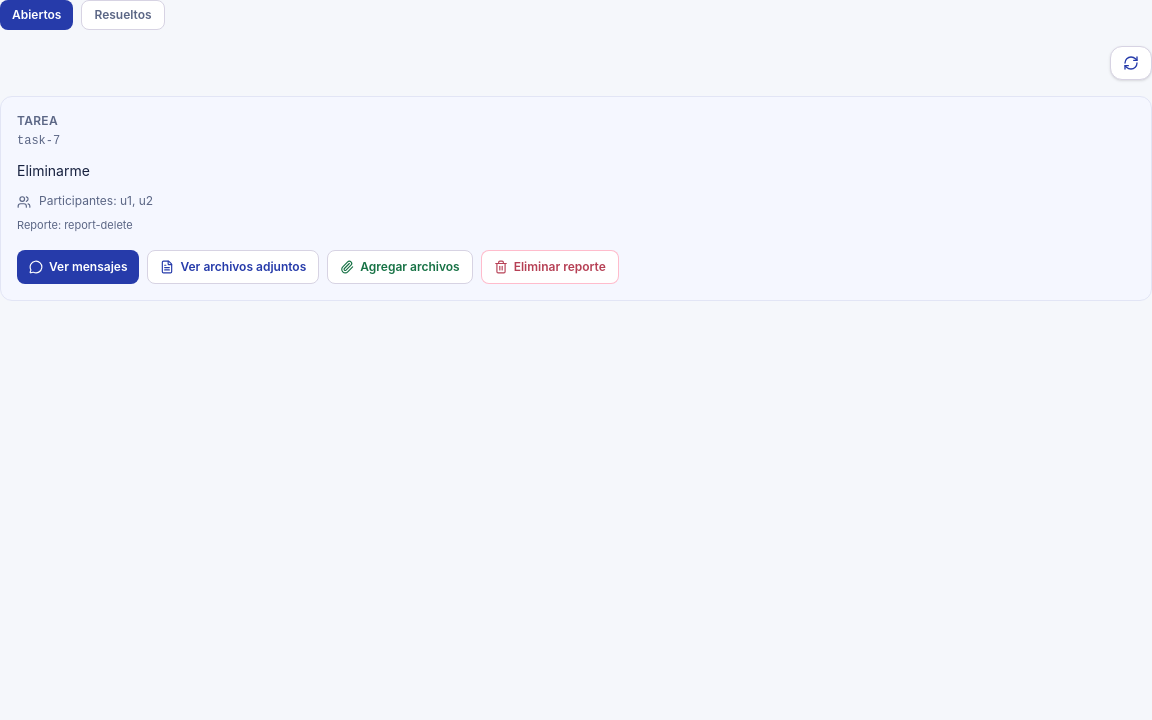
TaskReportsTab › pide confirmación antes de eliminar un reporte
Click the button "Eliminar reporte" at (550, 266), box [481,250,619,284]
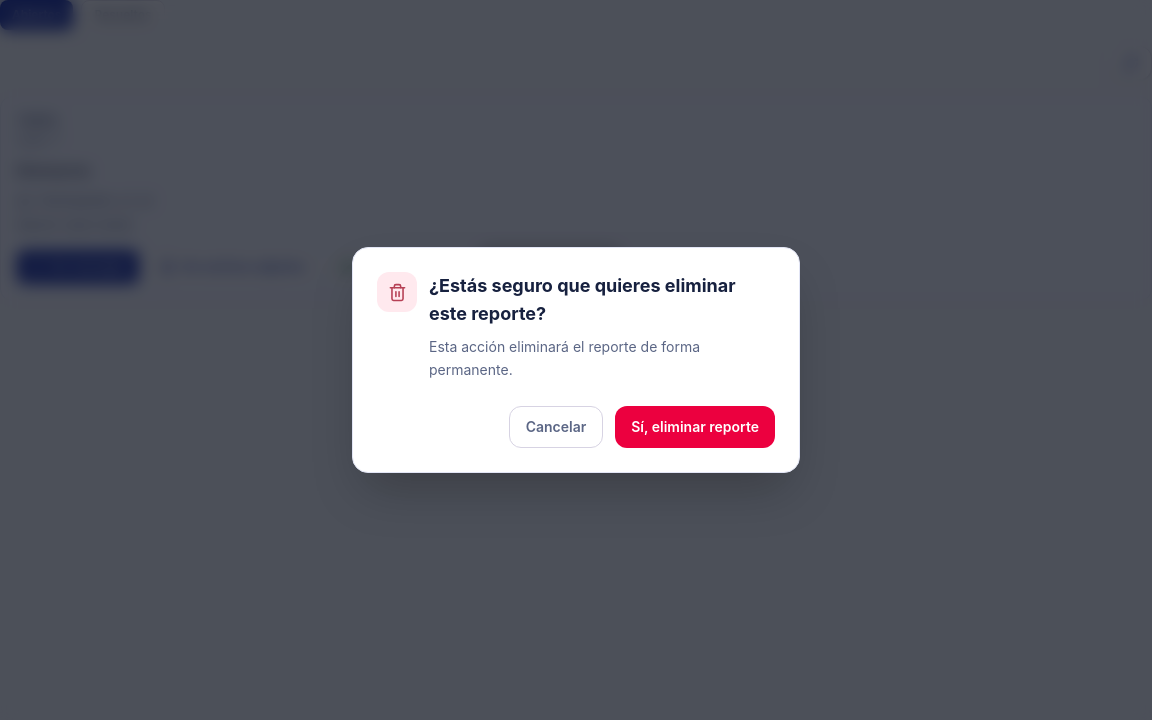
Expected: the heading "¿Estás seguro que quieres eliminar este reporte?" is shown, [429,272,775,328]
Click the button "Sí, eliminar reporte" at (695, 427), box [615,406,775,448]
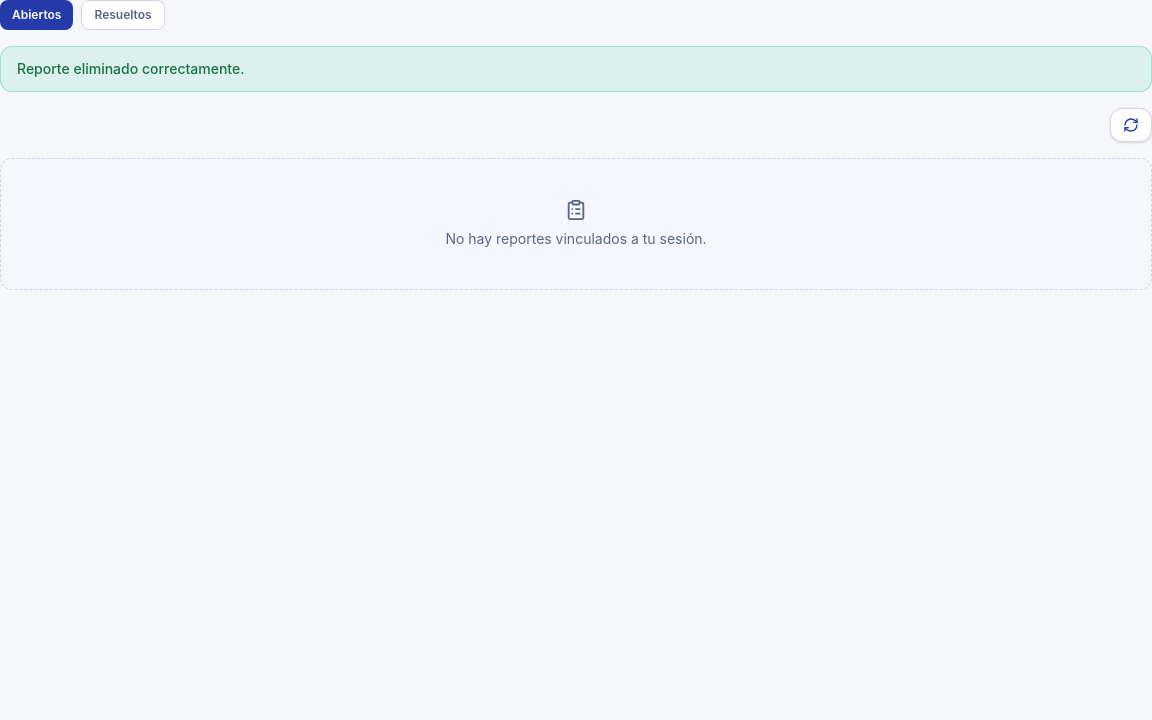
Expected: the text "Reporte eliminado correctamente." is shown, [0,46,1151,92]
